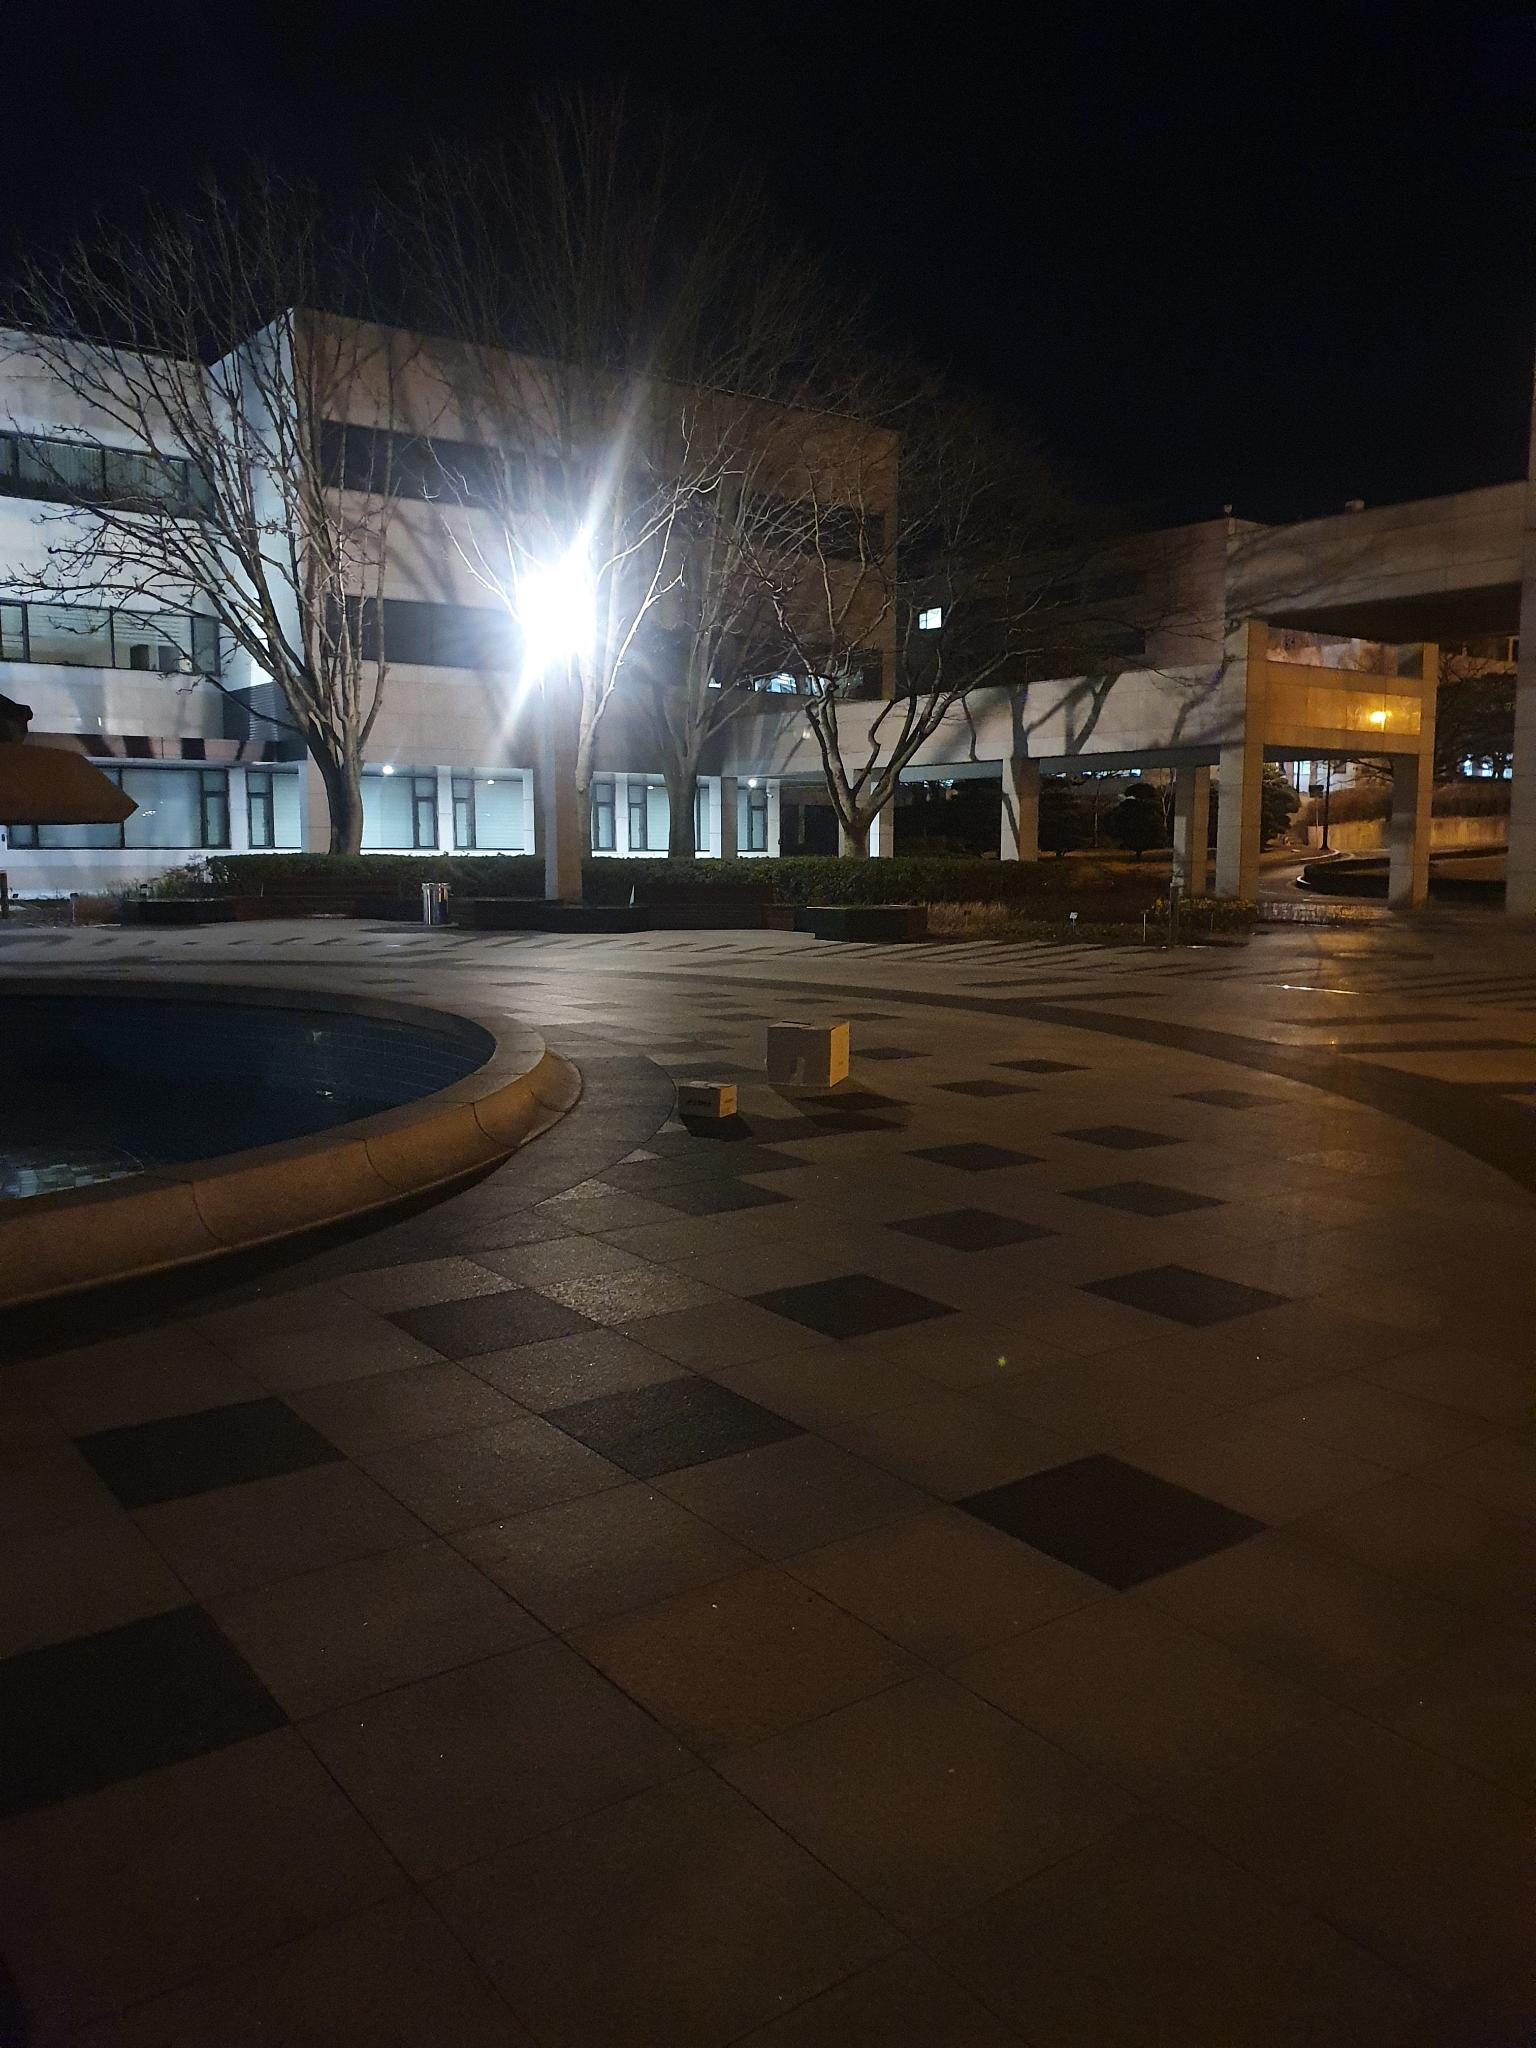Box: (758, 1006, 862, 1101), (670, 1064, 737, 1130)
